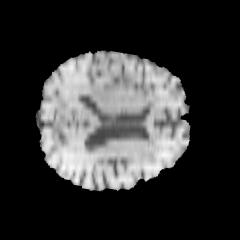glioma: (83, 65, 120, 97)
